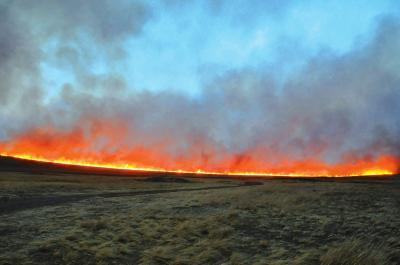fire: (2, 131, 394, 178)
